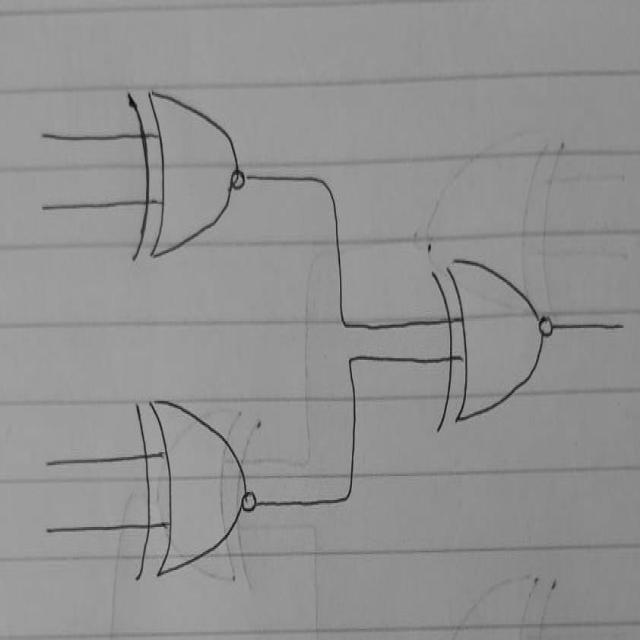XNOR: (122, 380, 270, 584), (429, 234, 566, 454), (120, 80, 261, 274)
